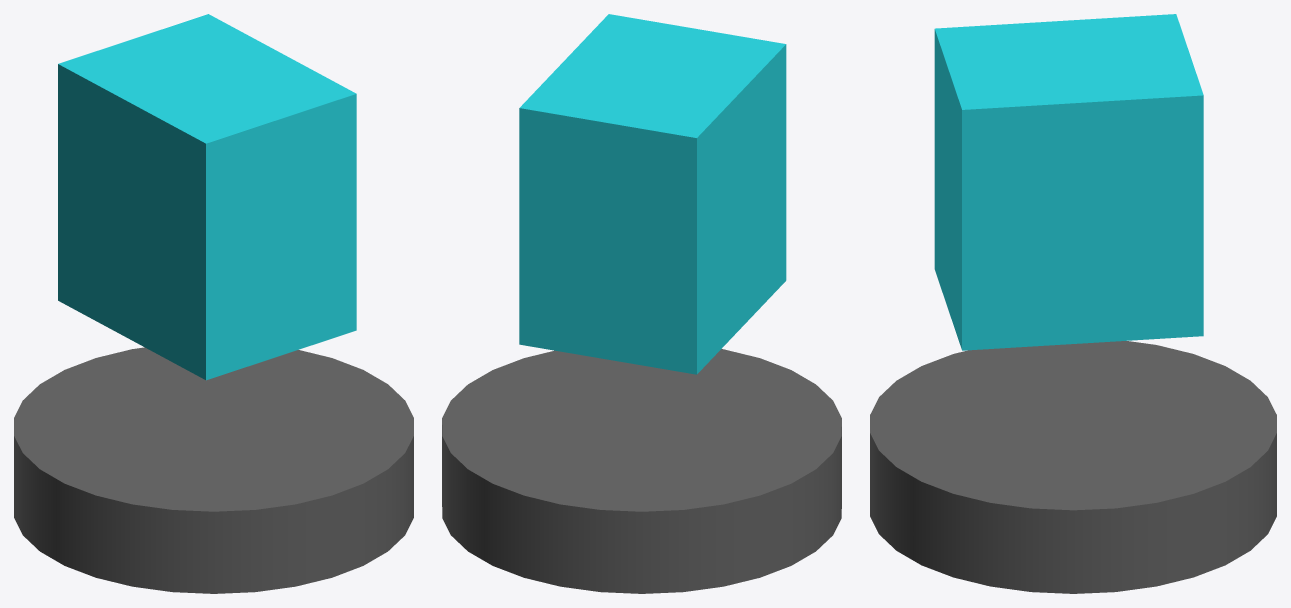
The model's file is cubBlue.glb.
The picture shows the model from 3 angles, left to right: view 1: azimuth 30°, elevation 25°; view 2: azimuth 150°, elevation 25°; view 3: azimuth 270°, elevation 25°; orthographic projection.
Visible parts, largest first — view 1: 011_Box_11, 012_Cylinder_-_baked_11; view 2: 012_Cylinder_-_baked_11, 011_Box_11; view 3: 012_Cylinder_-_baked_11, 011_Box_11.
Boxes of the visible parts, x1,y1,x2,y2 form: 011_Box_11: (58,14,356,380); 012_Cylinder_-_baked_11: (14,347,413,593); 012_Cylinder_-_baked_11: (442,349,841,593); 011_Box_11: (519,14,786,374); 012_Cylinder_-_baked_11: (870,341,1276,593); 011_Box_11: (934,14,1203,350).
Bounding box in the file's own units: 17.35 × 20.65 × 17.25.
